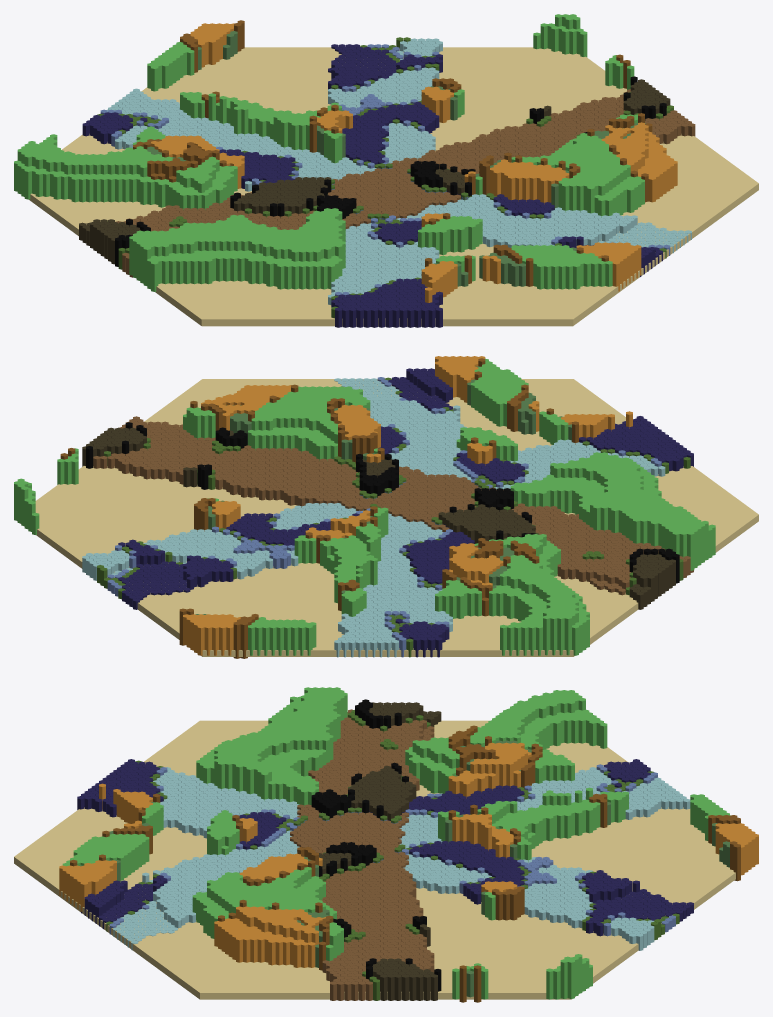
The model's file is 0032_tile_1010010.fbx.
3 views of the same model, one above another, from view 1: azimuth 30°, elevation 25°; view 2: azimuth 150°, elevation 25°; view 3: azimuth 270°, elevation 25° (orthographic).
Visible parts, largest first — view 1: Plane; view 2: Plane; view 3: Plane.
Boxes of the visible parts, x1,y1,x2,y2 form: Plane: [14, 14, 758, 327]; Plane: [14, 356, 758, 658]; Plane: [14, 687, 758, 1002].
Bounding box in the file's own units: 1008 × 75.91 × 1152.
